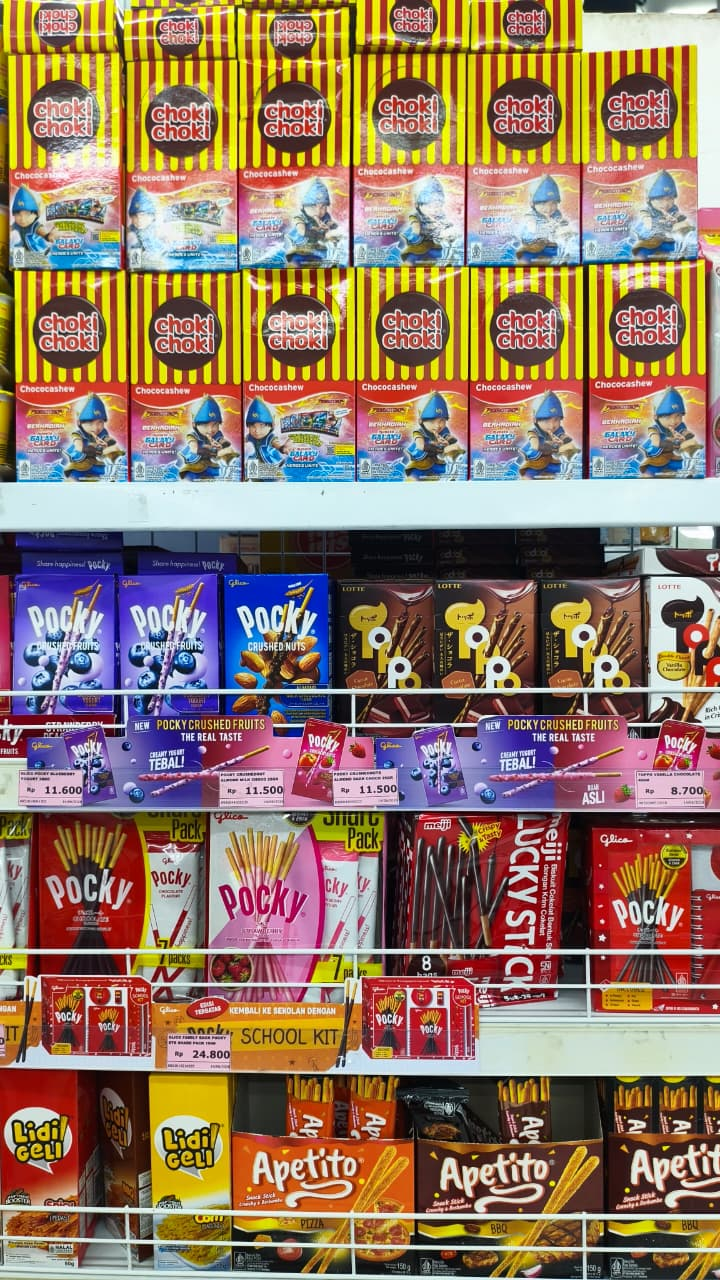Apetito: (232, 1128, 399, 1247), (429, 1135, 596, 1254)
Choki choki: (125, 66, 237, 237), (355, 275, 467, 446), (469, 54, 581, 225), (592, 272, 704, 443)
Lidi celi: (3, 1081, 80, 1229), (151, 1099, 228, 1247)
Pocky: (36, 817, 149, 972), (210, 825, 323, 980), (591, 845, 704, 1000)
